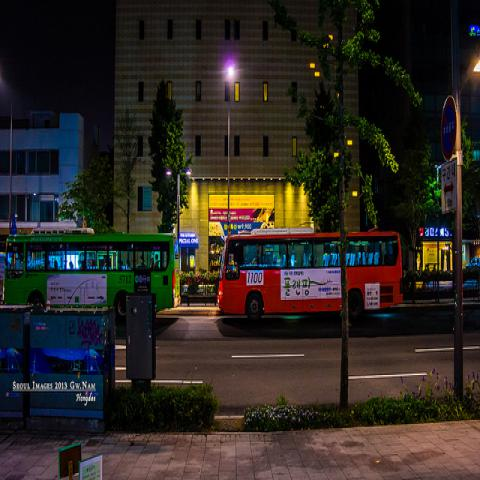bus: (217, 228, 403, 322), (1, 232, 180, 323)
